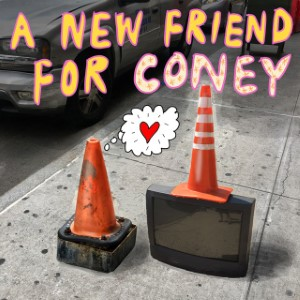traffic cone: (58, 136, 131, 246), (171, 84, 233, 203)
